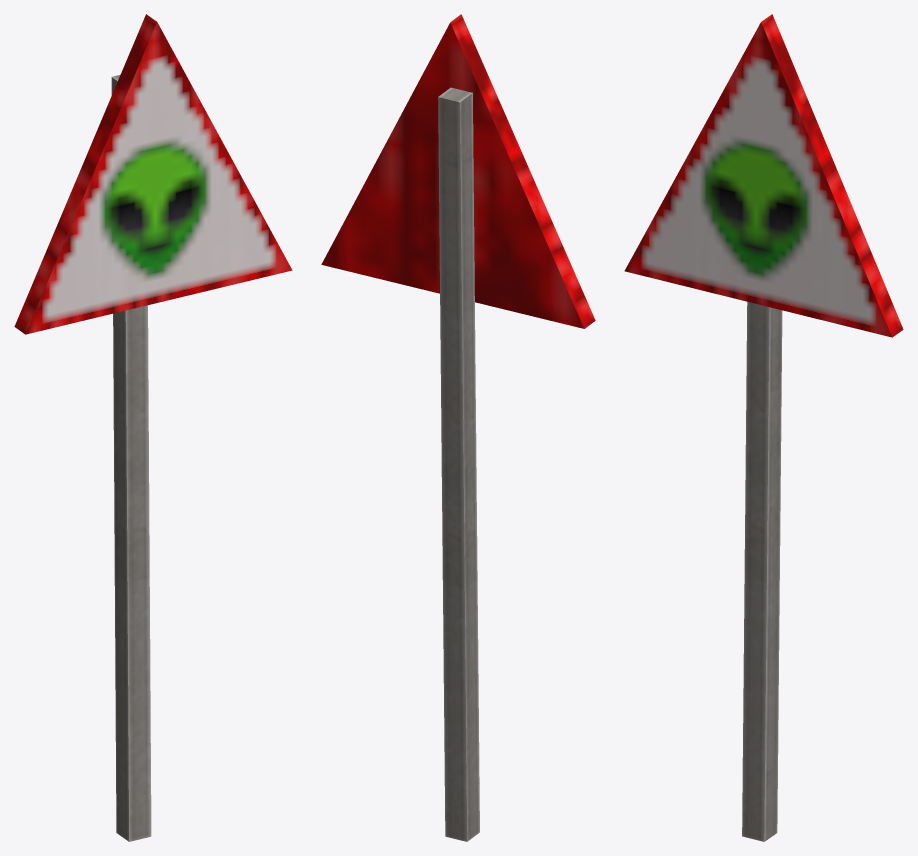
The model's file is Colony_Alien_Sign_Art.glb.
3 renders of one model, left to right at view 1: azimuth 30°, elevation 25°; view 2: azimuth 150°, elevation 25°; view 3: azimuth 330°, elevation 25°, orthographic.
Parts seen in each view (by area): view 1: Colony_Alien_Sign_Art; view 2: Colony_Alien_Sign_Art; view 3: Colony_Alien_Sign_Art.
Part boxes in pixels (x1,y1,x2,y2): Colony_Alien_Sign_Art: (14, 14, 292, 841); Colony_Alien_Sign_Art: (321, 14, 595, 841); Colony_Alien_Sign_Art: (624, 14, 903, 841).
Size of the model in its own units: 1.05 by 3.07 by 0.1768.
Materials: 1 (1 with a texture image).
